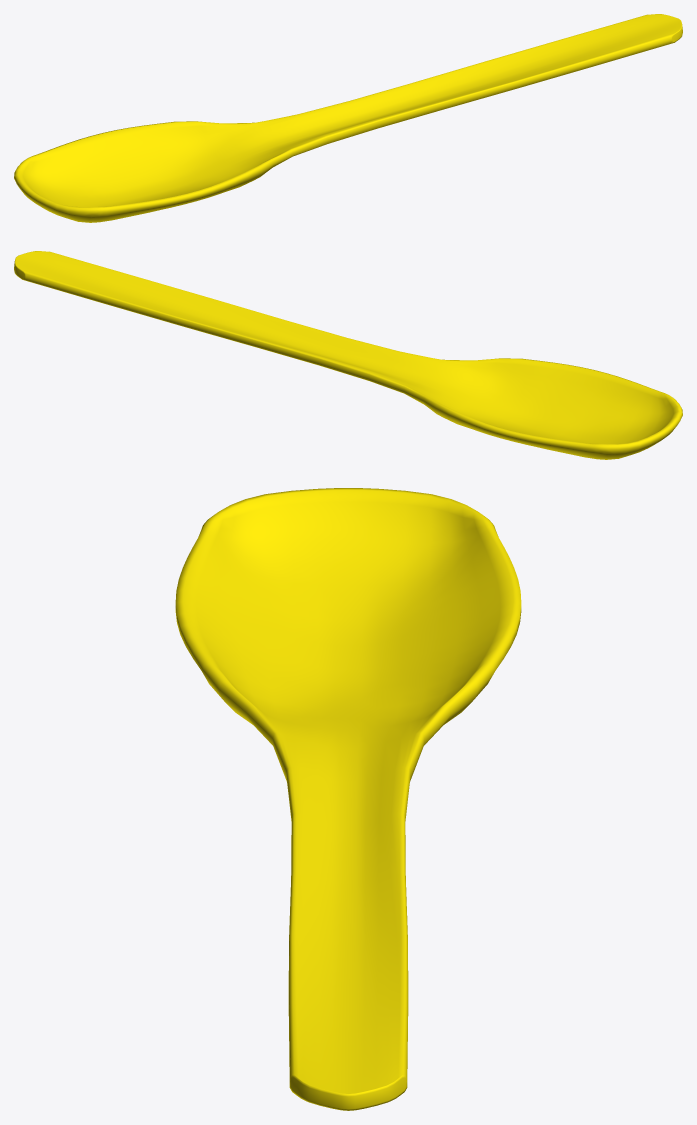
File: spoon.fbx
3 views of the same model, one above another, from view 1: azimuth 30°, elevation 25°; view 2: azimuth 150°, elevation 25°; view 3: azimuth 270°, elevation 25° (orthographic). The views are drawn at different scales.
Parts seen in each view (by area): view 1: Plane001; view 2: Plane001; view 3: Plane001.
Part boxes in pixels (<box>): Plane001: <box>14,14,682,222</box>; Plane001: <box>14,251,682,459</box>; Plane001: <box>175,488,521,1110</box>.
Bounding box in the file's own units: 125 × 9.3 × 28.72.
